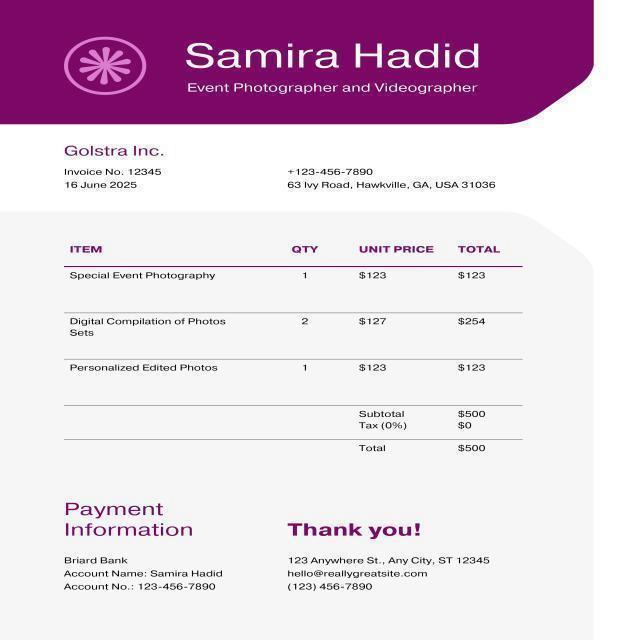ROI: (57, 239, 518, 383), (176, 24, 495, 111), (57, 486, 235, 622), (336, 404, 518, 476), (282, 549, 508, 602), (271, 158, 520, 203), (46, 18, 159, 110), (266, 511, 442, 543), (58, 164, 172, 194), (54, 138, 177, 161)
